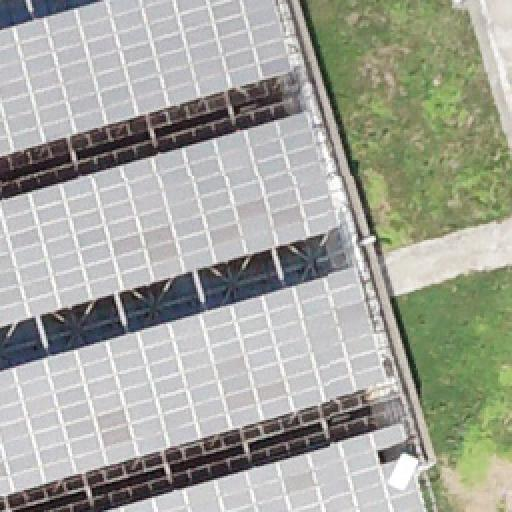solar-panel: (1, 266, 391, 498), (1, 111, 343, 329), (0, 1, 296, 159), (103, 422, 425, 512)
